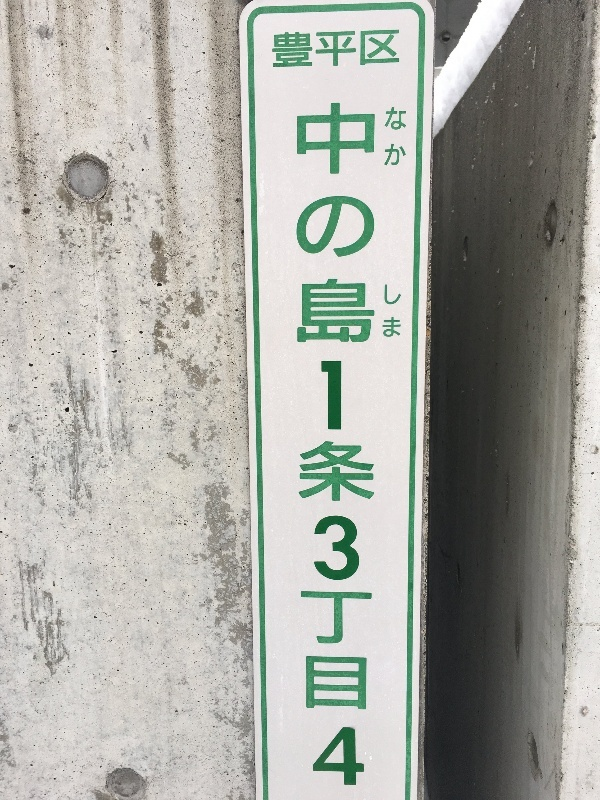text: (305, 101, 320, 792), (321, 101, 336, 792), (337, 101, 352, 792), (353, 101, 368, 792), (369, 101, 378, 792), (297, 101, 304, 792), (385, 284, 400, 341), (386, 107, 400, 168), (385, 24, 401, 75), (273, 24, 288, 75), (289, 24, 304, 75), (305, 24, 320, 75), (321, 24, 336, 75), (337, 24, 352, 75), (353, 24, 368, 75), (369, 24, 384, 75), (401, 107, 408, 168), (401, 284, 403, 341)
